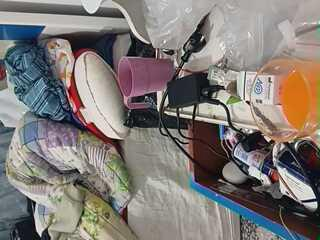cup: (250, 59, 319, 141), (118, 57, 173, 108)
